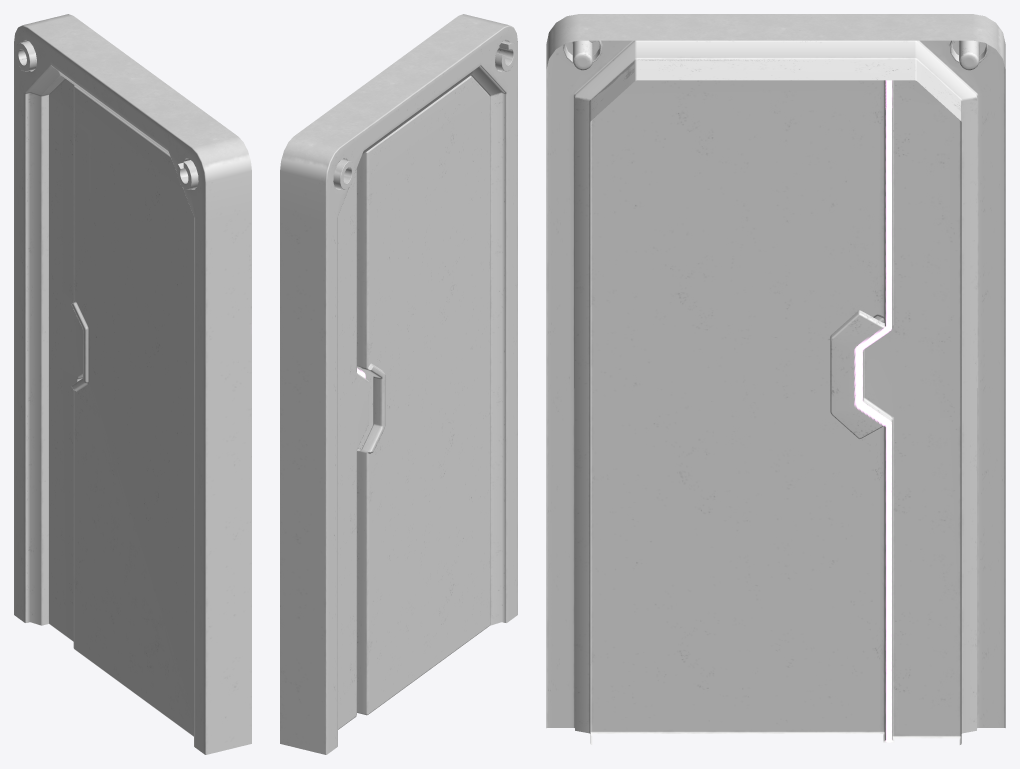
Rendered from futuristic_sci-fi_door__game_asset.glb.
The picture shows the model from 3 angles, left to right: view 1: azimuth 30°, elevation 25°; view 2: azimuth 150°, elevation 25°; view 3: azimuth 270°, elevation 25°; orthographic projection. The views are drawn at different scales.
Visible parts, largest first — view 1: door; view 2: door; view 3: door.
Boxes of the visible parts, box(x1,y1,x2,y2) form: door: box(14, 14, 251, 754); door: box(280, 14, 517, 754); door: box(546, 14, 1005, 744).
Bounding box in the file's own units: 0.3998 × 4.34 × 2.52.
Materials: 1 (1 with a texture image).
